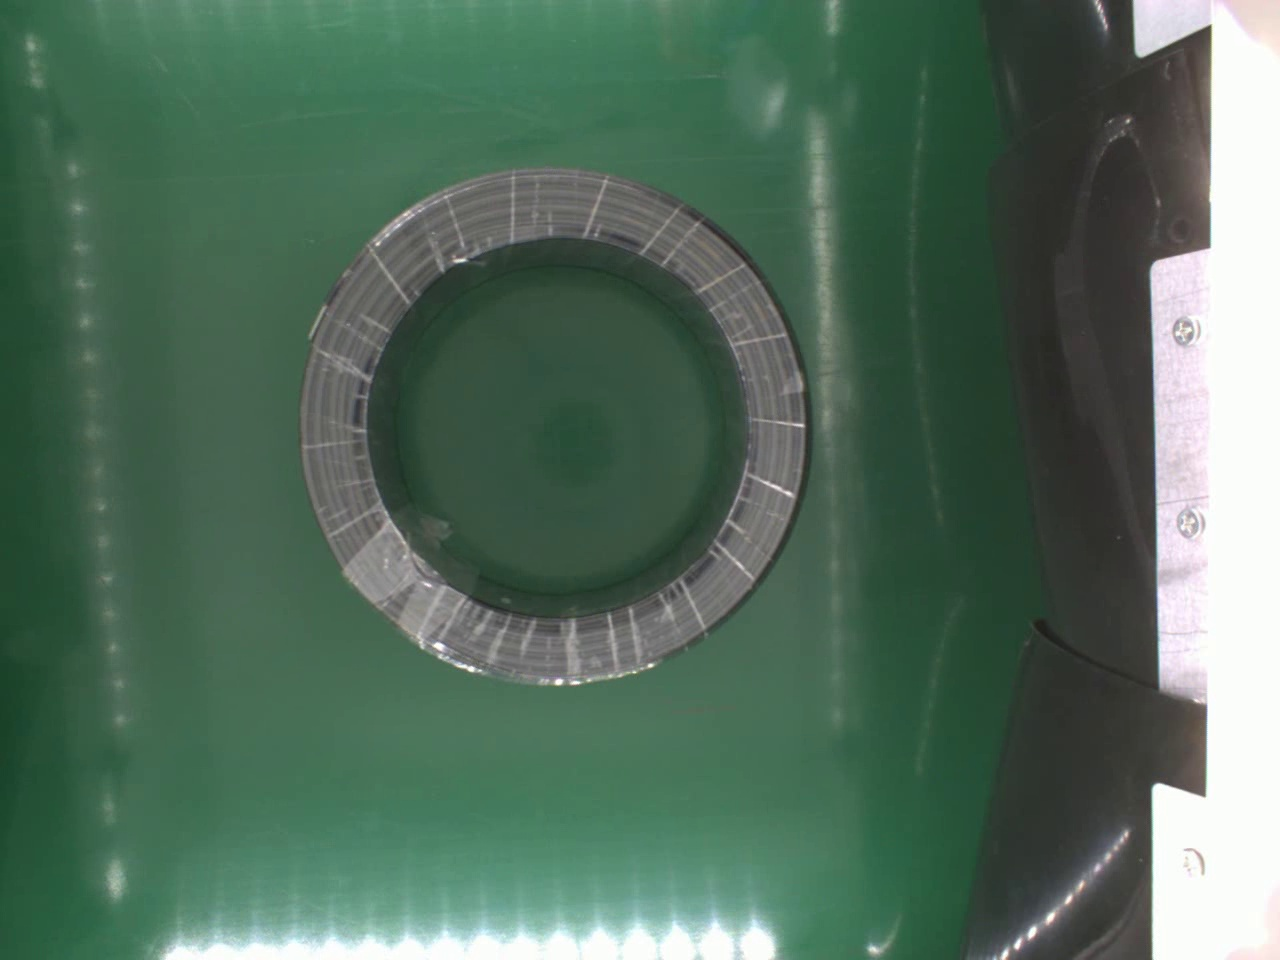black: (285, 165, 811, 698)
